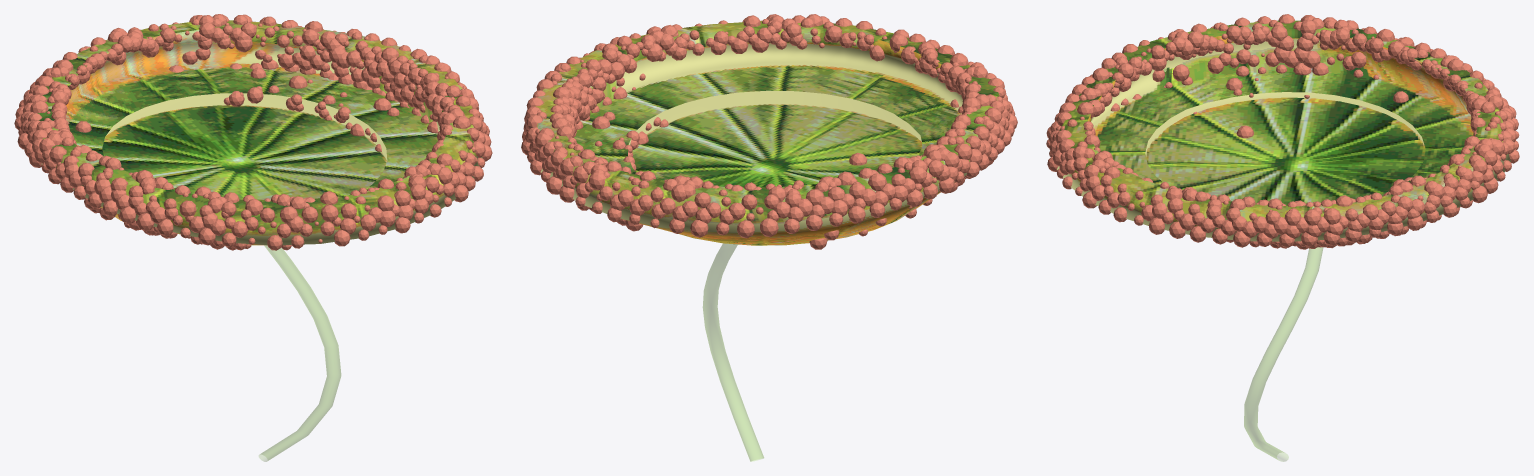
The model's file is lilypad.glb.
3 renders of one model, left to right at view 1: azimuth 30°, elevation 25°; view 2: azimuth 150°, elevation 25°; view 3: azimuth 270°, elevation 25°, orthographic. The views are drawn at different scales.
Parts seen in each view (by area): view 1: lilypad, eggs, stem; view 2: lilypad, eggs, stem; view 3: lilypad, eggs, stem.
Boxes of the visible parts, x1,y1,x2,y2 form: lilypad: [37, 20, 482, 245]; eggs: [14, 14, 492, 250]; stem: [259, 245, 340, 461]; lilypad: [535, 21, 999, 245]; eggs: [521, 14, 1017, 249]; stem: [703, 243, 763, 461]; lilypad: [1057, 20, 1510, 241]; eggs: [1046, 14, 1519, 249]; stem: [1244, 247, 1322, 461].
Bounding box in the file's own units: 5.24 × 4.44 × 5.4.
3 materials, 2 textured.
